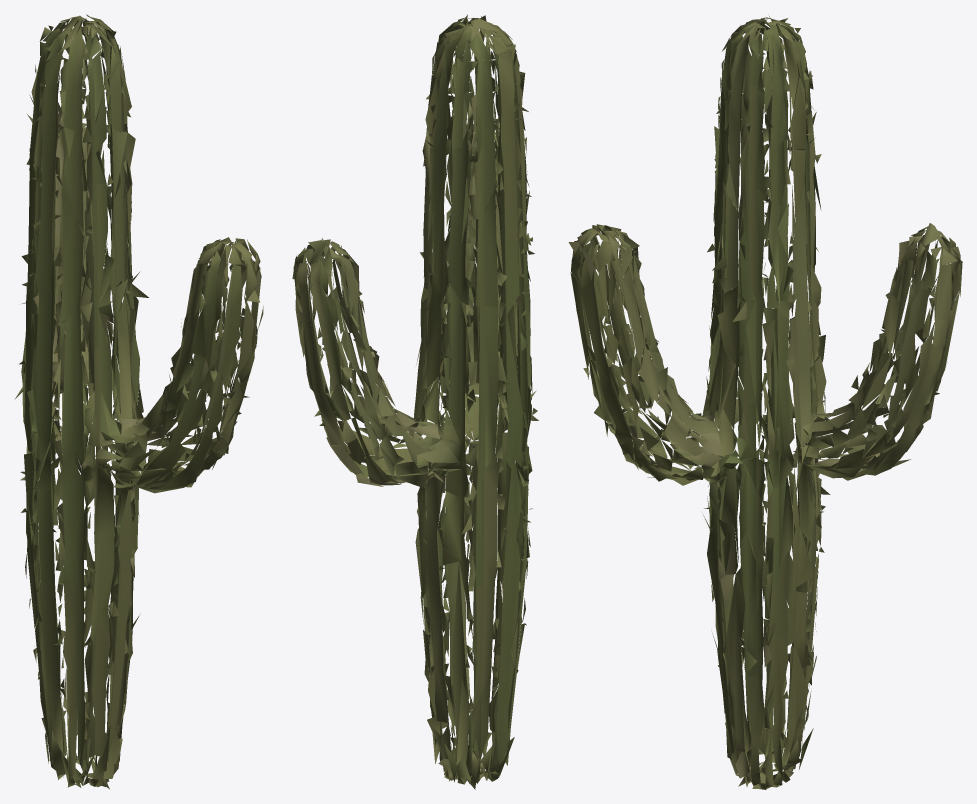
File: saguaro.glb
The picture shows the model from 3 angles, left to right: view 1: azimuth 30°, elevation 25°; view 2: azimuth 150°, elevation 25°; view 3: azimuth 270°, elevation 25°; orthographic projection.
Parts seen in each view (by area): view 1: LO.001; view 2: LO.001; view 3: LO.001.
Boxes of the visible parts, x1,y1,x2,y2 form: LO.001: (14, 14, 263, 789); LO.001: (292, 14, 538, 789); LO.001: (568, 16, 962, 789).
Size of the model in its own units: 0.2127 by 0.9825 by 0.4604.
Materials: 1 (1 with a texture image).
